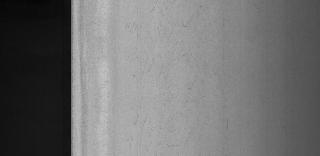silk spot: (140, 8, 222, 136)
